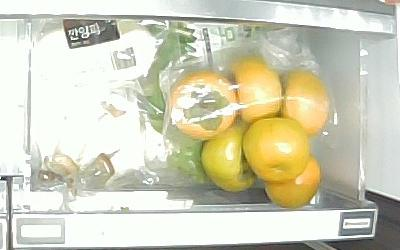persimmon: (244, 118, 312, 183), (201, 124, 256, 193), (264, 155, 321, 208)
persimmon_vinyl: (170, 72, 237, 141), (230, 60, 283, 123), (284, 70, 329, 136)
